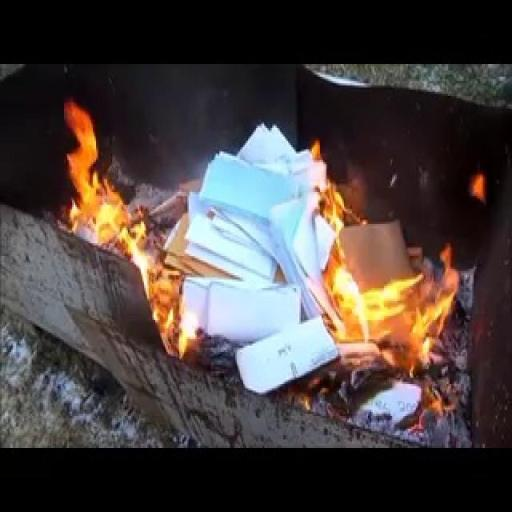smoke: (303, 143, 446, 367), (39, 88, 164, 264)
